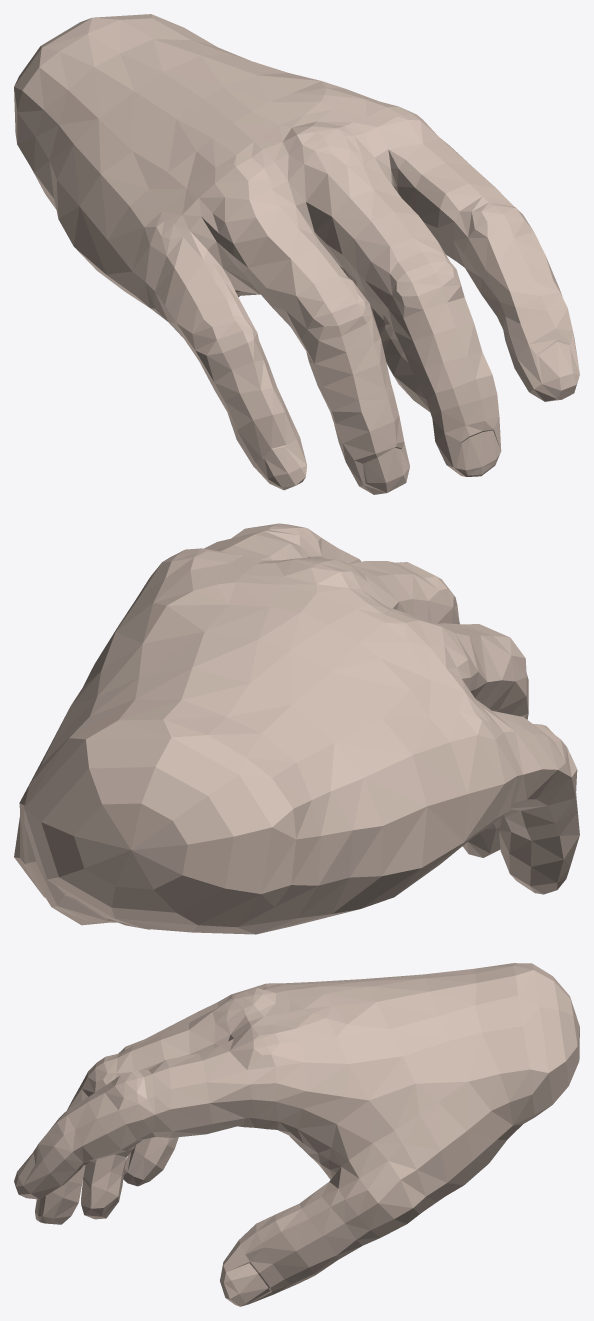
Rendered from RHandLinkFull.dae.
3 renders of one model, top to bottom at view 1: azimuth 30°, elevation 25°; view 2: azimuth 150°, elevation 25°; view 3: azimuth 270°, elevation 25°, orthographic. The views are drawn at different scales.
Visible parts, largest first — view 1: ShapeIndexedFaceSet, ShapeIndexedFaceSet_001; view 2: ShapeIndexedFaceSet; view 3: ShapeIndexedFaceSet, ShapeIndexedFaceSet_001.
Part boxes in pixels (x1,y1,x2,y2): ShapeIndexedFaceSet: [14, 14, 579, 494]; ShapeIndexedFaceSet_001: [265, 341, 579, 492]; ShapeIndexedFaceSet: [14, 523, 579, 934]; ShapeIndexedFaceSet: [16, 963, 579, 1306]; ShapeIndexedFaceSet_001: [14, 1152, 269, 1306].
Bounding box in the file's own units: 0.0849 × 0.1592 × 0.0813.
